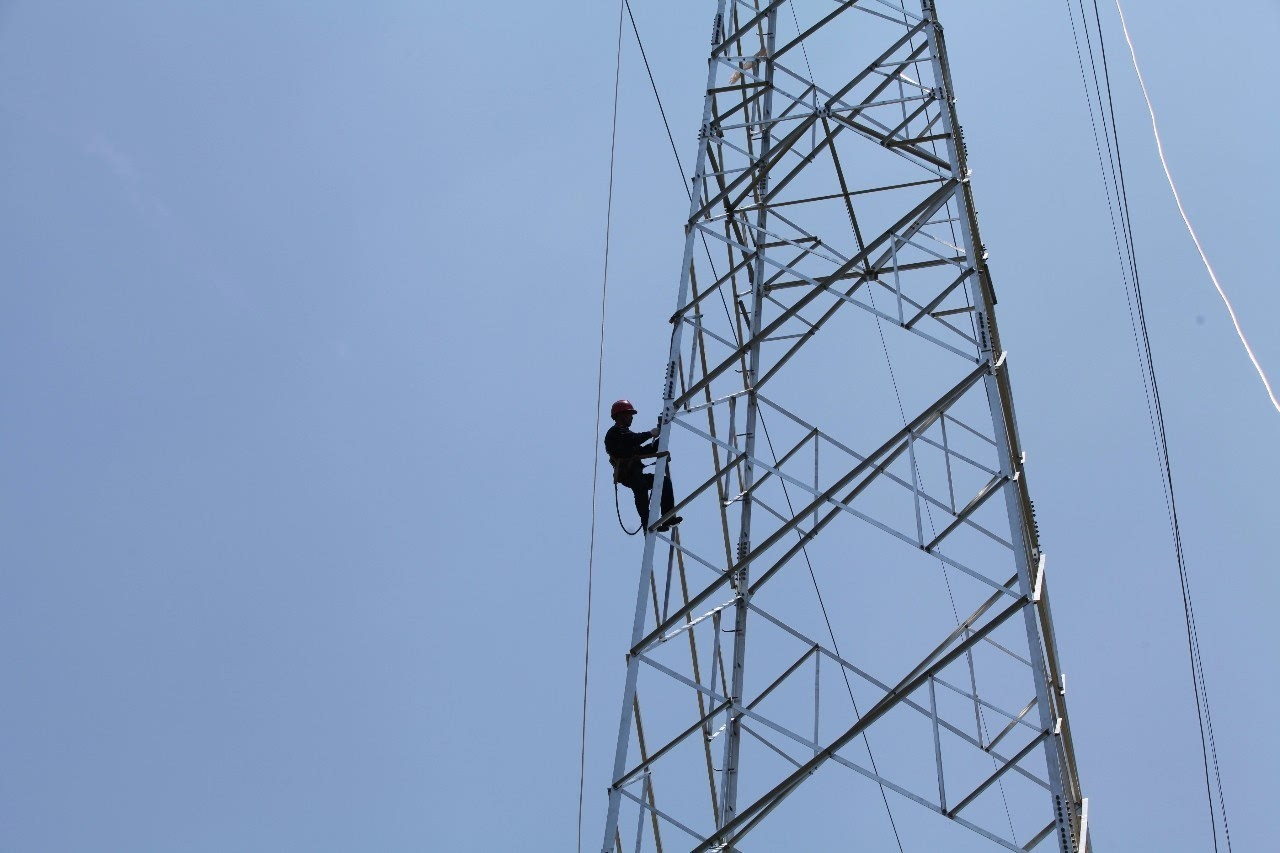red: (608, 397, 635, 426)
